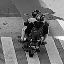mobil: (10, 6, 54, 55)
